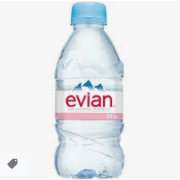Bottle: (55, 2, 124, 180)
